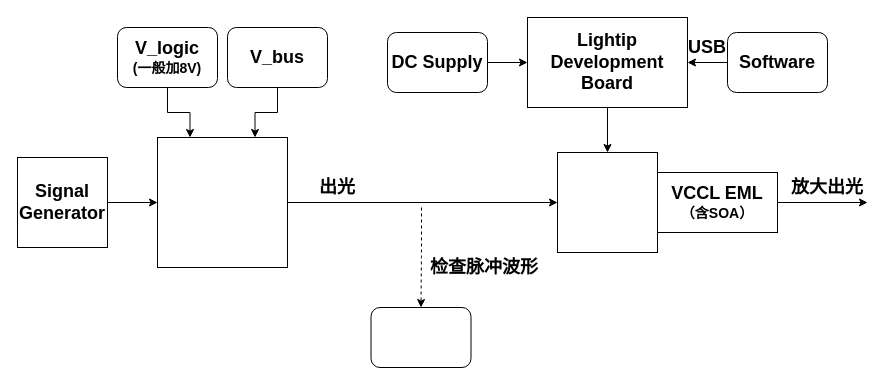
This 893x385 diagram has some shape labels left out. The box of each missing label's shape, as (x1, y1, x2, y2) in pixels:
EPC Development Board: (156, 136, 288, 268)
Lightip 接线板 （9pin）: (556, 152, 658, 252)
示波器: (370, 306, 471, 368)
